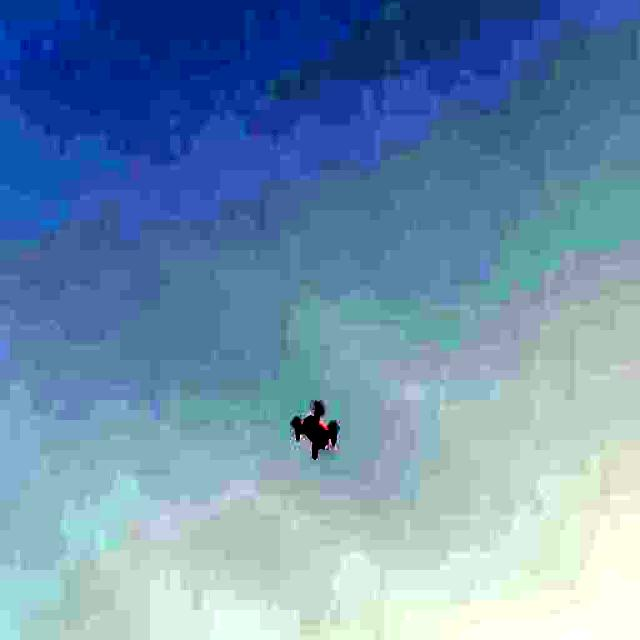bird: (284, 376, 352, 469)
